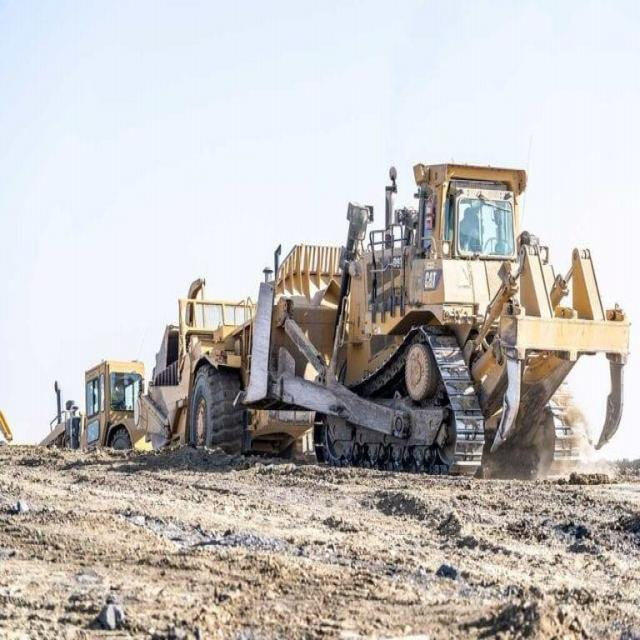Bulldozer: (247, 150, 639, 522)
